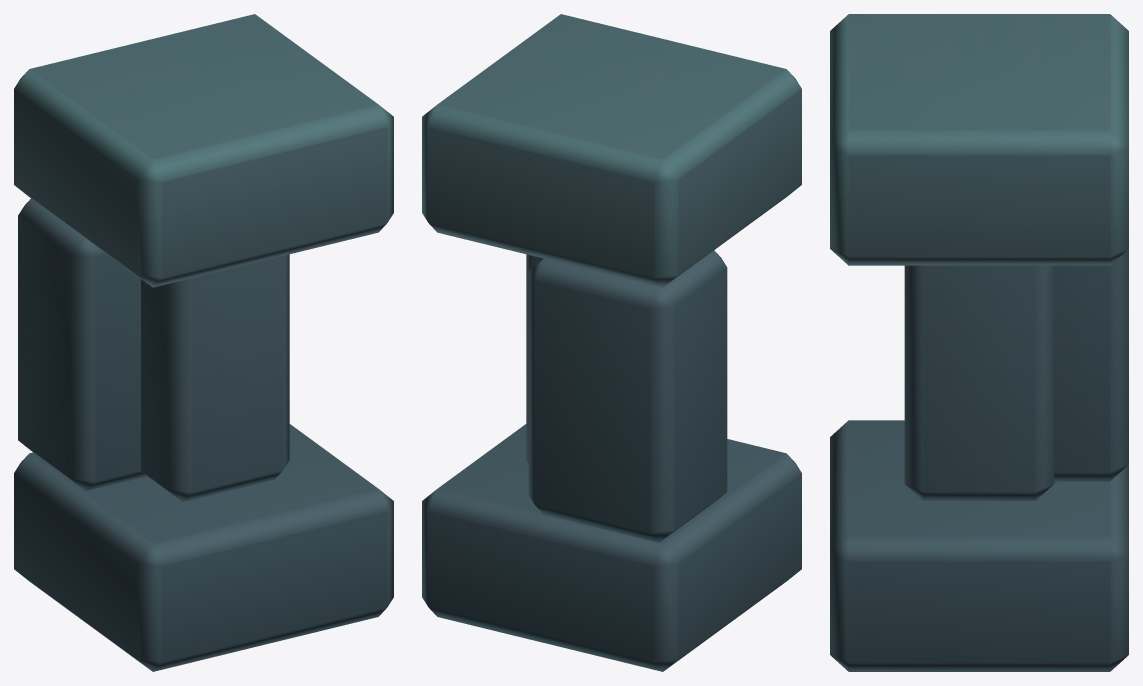
File: wall_pannel_corner_hue_2.fbx
3 views of the same model, side by side, from view 1: azimuth 30°, elevation 25°; view 2: azimuth 150°, elevation 25°; view 3: azimuth 270°, elevation 25° (orthographic). The views are drawn at different scales.
Visible parts, largest first — view 1: wall_pannel_corner_hue_2; view 2: wall_pannel_corner_hue_2; view 3: wall_pannel_corner_hue_2.
Boxes of the visible parts, box(x1,y1,x2,y2) form: wall_pannel_corner_hue_2: box(14, 14, 393, 671); wall_pannel_corner_hue_2: box(422, 14, 801, 671); wall_pannel_corner_hue_2: box(830, 14, 1128, 671).
Bounding box in the file's own units: 52.34 × 100 × 50.
